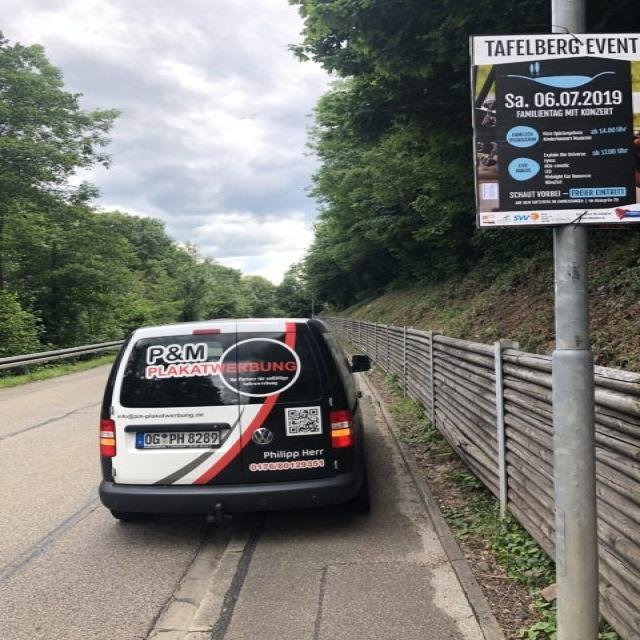Werbetafel frei: (461, 27, 640, 235)
